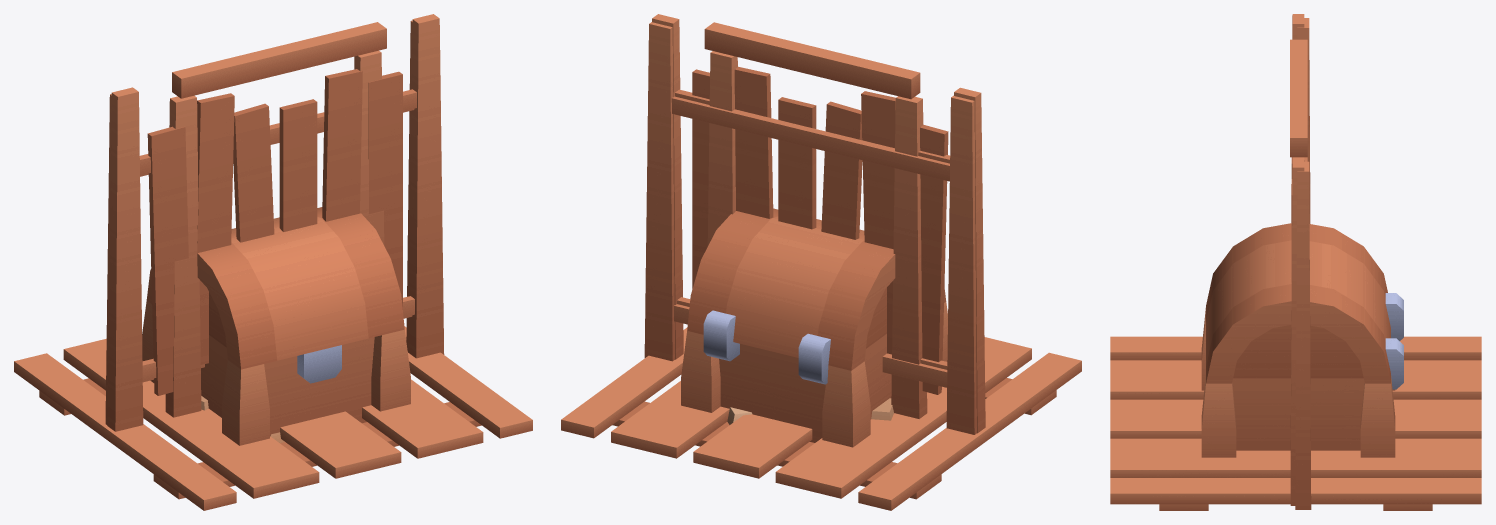
Rendered from kenny_survival.glb.
3 renders of one model, left to right at view 1: azimuth 30°, elevation 25°; view 2: azimuth 150°, elevation 25°; view 3: azimuth 270°, elevation 25°, orthographic. The views are drawn at different scales.
Parts seen in each view (by area): view 1: fence-fortified, floor, fence-doorway, lid, chest, Group, floor-old; view 2: fence-fortified, floor, lid, fence-doorway, chest, Group, campfire-pit; view 3: floor, lid, chest, fence-fortified, fence-doorway, Group, floor-old.
Boxes of the visible parts, x1=… form: fence-fortified: x1=105, y1=20, x2=414, y2=424; floor: x1=14, y1=326, x2=532, y2=510; fence-doorway: x1=107, y1=14, x2=444, y2=431; lid: x1=146, y1=207, x2=404, y2=383; chest: x1=142, y1=301, x2=410, y2=445; Group: x1=172, y1=22, x2=386, y2=98; floor-old: x1=64, y1=355, x2=483, y2=496; fence-fortified: x1=644, y1=22, x2=976, y2=434; floor: x1=561, y1=327, x2=1081, y2=510; lid: x1=687, y1=208, x2=946, y2=370; fence-doorway: x1=652, y1=14, x2=985, y2=433; chest: x1=681, y1=302, x2=947, y2=447; Group: x1=704, y1=22, x2=920, y2=99; campfire-pit: x1=727, y1=398, x2=893, y2=424; floor: x1=1110, y1=336, x2=1481, y2=510; lid: x1=1206, y1=223, x2=1390, y2=383; chest: x1=1201, y1=293, x2=1403, y2=457; fence-fortified: x1=1291, y1=18, x2=1311, y2=509; fence-doorway: x1=1290, y1=14, x2=1304, y2=505; Group: x1=1290, y1=39, x2=1307, y2=157; floor-old: x1=1110, y1=393, x2=1481, y2=477.
Size of the model in its own units: 1.01 by 1.03 by 1.
Materials: 6 (6 with a texture image).
